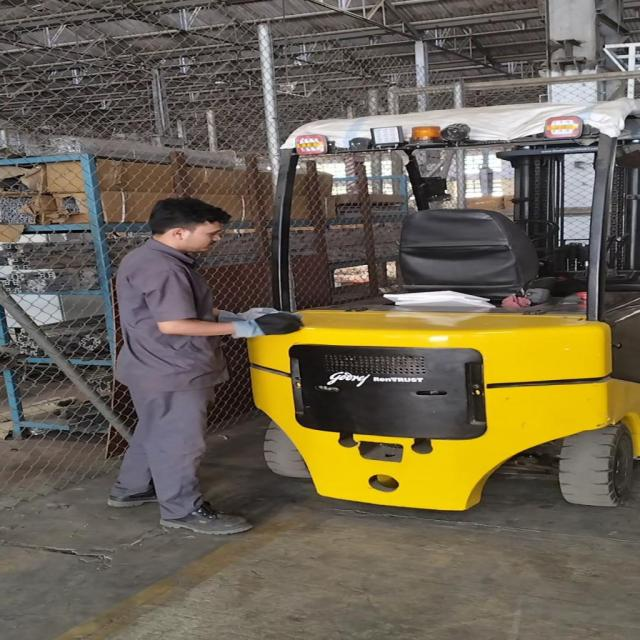Gloves-Detection: (219, 303, 300, 345)
